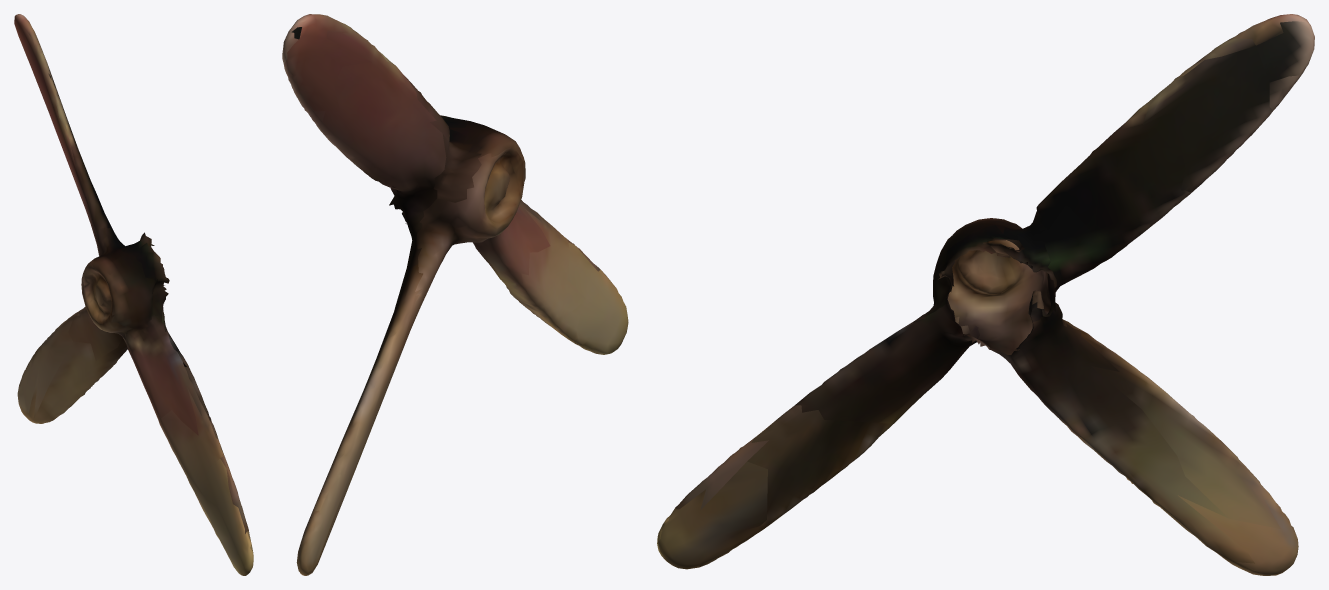
Rendered from helice2.obj.
The picture shows the model from 3 angles, left to right: view 1: azimuth 30°, elevation 25°; view 2: azimuth 150°, elevation 25°; view 3: azimuth 270°, elevation 25°; orthographic projection. The views are drawn at different scales.
Visible parts, largest first — view 1: nave.003; view 2: nave.003; view 3: nave.003.
Boxes of the visible parts, x1=… form: nave.003: x1=14, y1=14, x2=253, y2=575; nave.003: x1=282, y1=14, x2=628, y2=575; nave.003: x1=657, y1=14, x2=1314, y2=575.
Bounding box in the file's own units: 0.0422 × 0.276 × 0.295.
